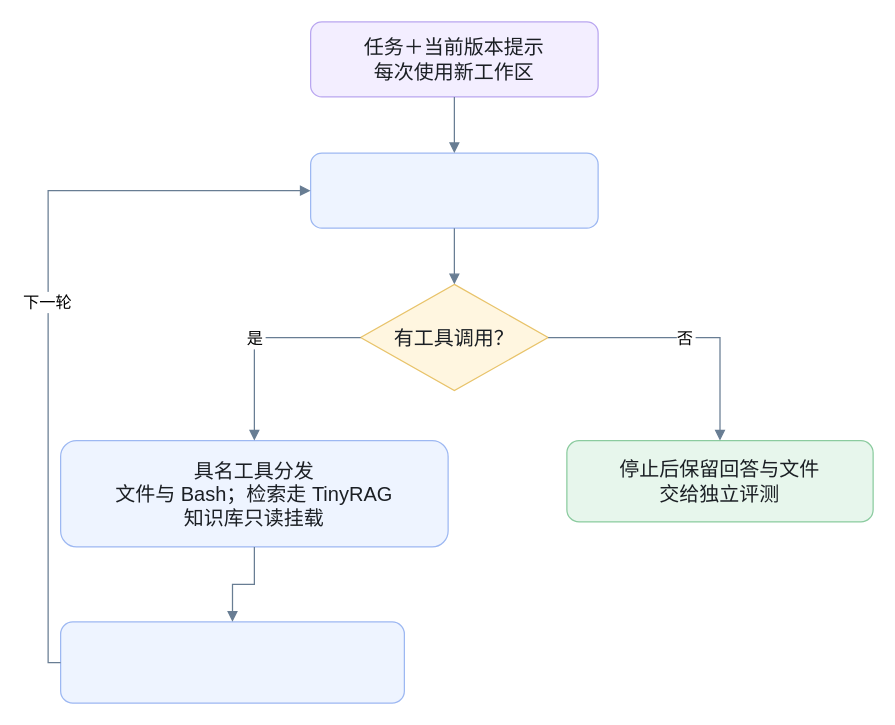
The diagram is 895 pixels wide and 725 high, and some of its shapes have lost their labels. The shapes that lost their labels are listed below. From the top down, each one's centre as x and y in pixels, then its label:
At (x=453, y=190): "模型决定下一步 保留实际输入与响应".
At (x=231, y=662): "工具结果回到 messages 检索资料进入实际上下文".
